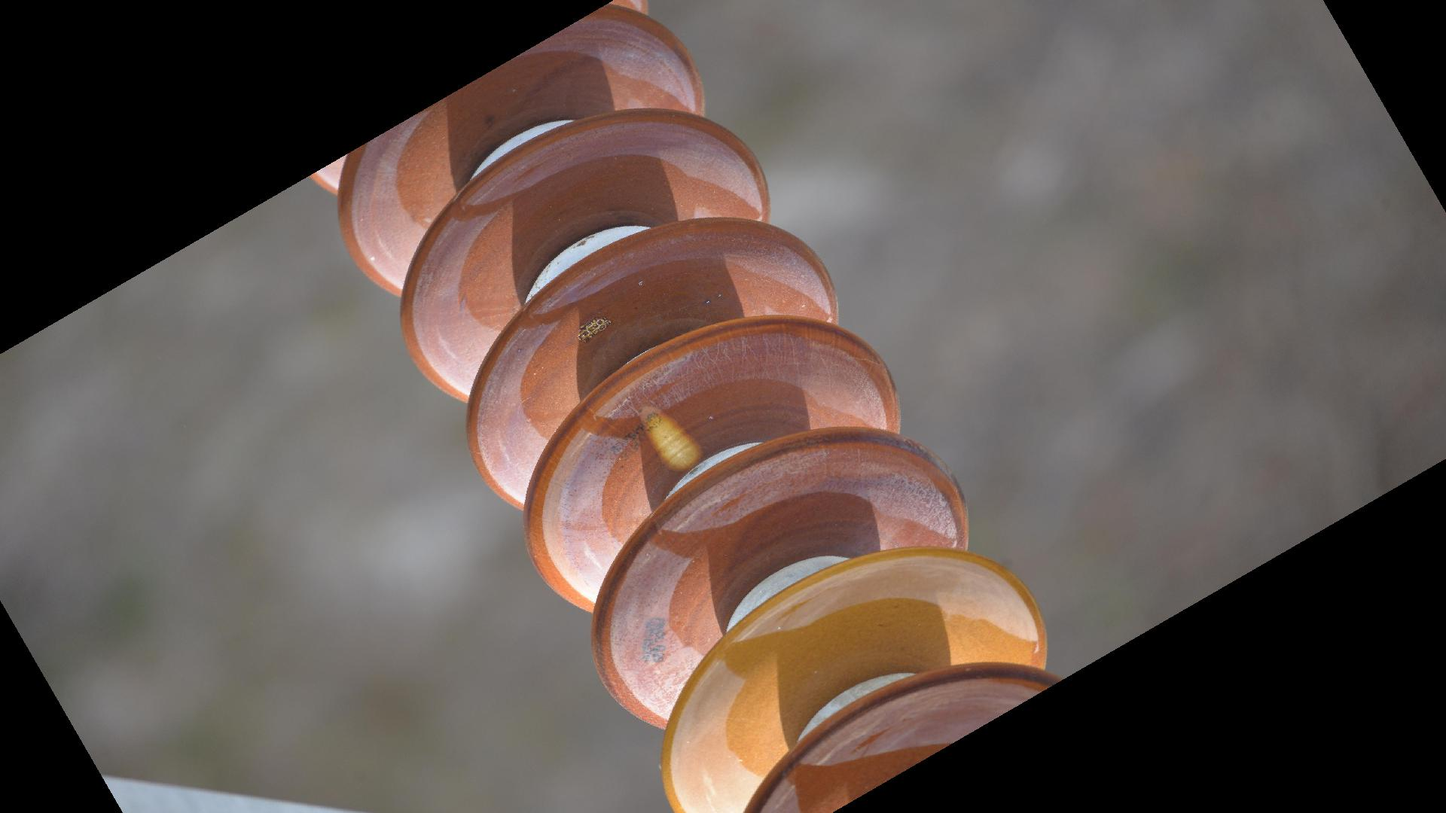insulator: (300, 1, 1071, 813)
insulator_flashover: (636, 403, 706, 475)
